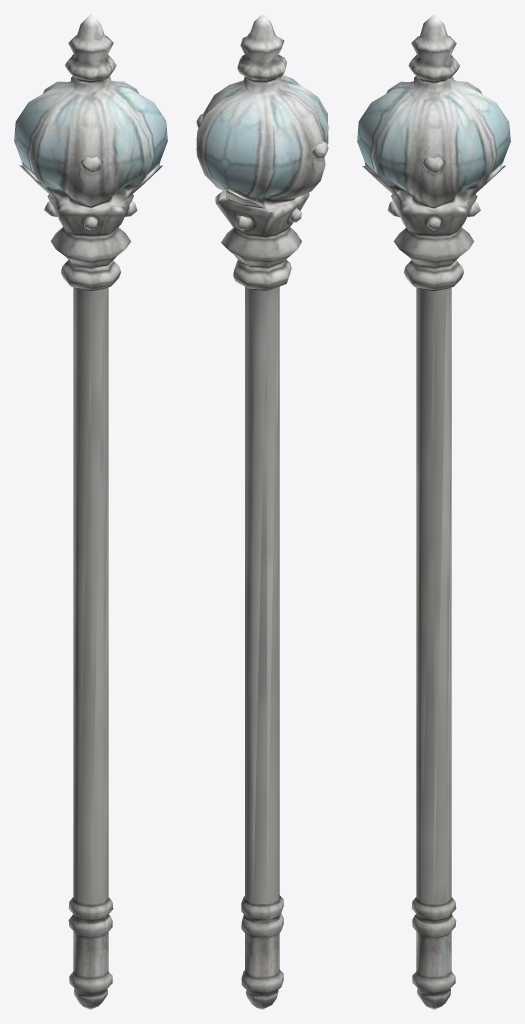
File: prop_scepter.glb
The picture shows the model from 3 angles, left to right: view 1: azimuth 90°, elevation 25°; view 2: azimuth 150°, elevation 25°; view 3: azimuth 270°, elevation 25°; orthographic projection.
Bounding box in the file's own units: 0.1284 × 0.9517 × 0.1333.
1 material, 1 textured.
